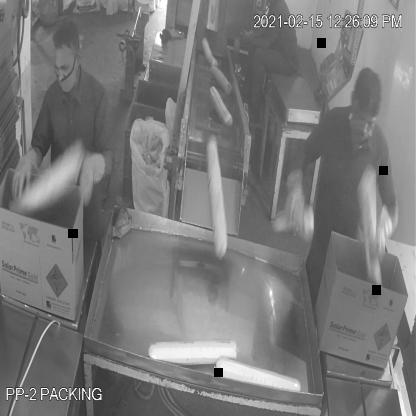glove: (68, 133, 111, 212), (6, 140, 46, 207), (281, 168, 313, 232)
no_glove: (236, 21, 275, 60)
